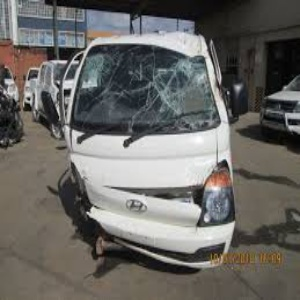bumper: (77, 187, 139, 264)
front_windshield_glass: (83, 51, 212, 131)
